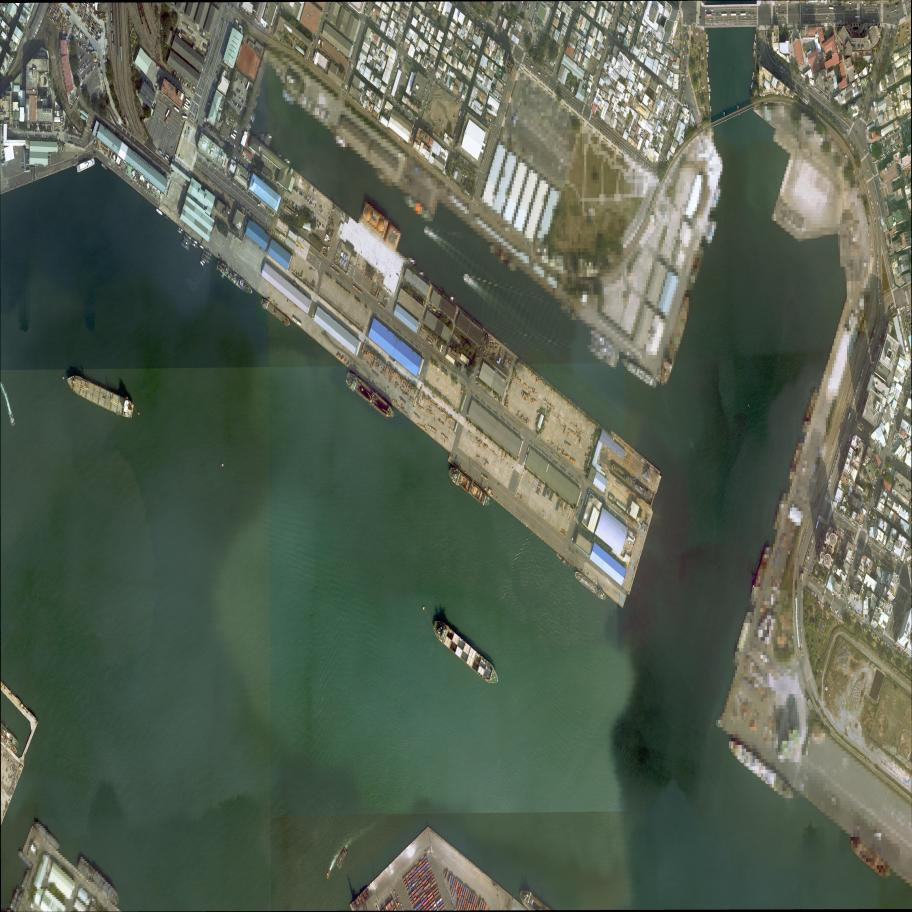large-vehicle: (186, 27, 195, 35), (378, 302, 386, 310), (173, 106, 180, 113), (182, 22, 190, 28), (165, 109, 170, 118), (352, 285, 359, 291), (185, 98, 191, 104), (183, 105, 189, 111), (681, 90, 684, 102), (230, 134, 236, 140), (382, 297, 386, 306), (847, 413, 851, 421), (246, 82, 250, 90), (184, 103, 190, 108), (404, 74, 409, 80), (330, 267, 336, 272), (357, 289, 363, 294), (440, 344, 443, 353), (164, 156, 169, 161), (200, 31, 205, 36), (335, 270, 340, 275), (182, 115, 188, 119), (396, 91, 399, 98), (300, 271, 303, 278), (155, 65, 160, 69), (233, 129, 238, 133), (175, 73, 178, 79), (173, 71, 176, 77), (185, 101, 189, 105), (530, 65, 534, 69), (233, 133, 237, 137), (182, 80, 185, 85), (686, 26, 689, 31), (731, 13, 736, 16), (706, 14, 712, 16), (877, 201, 879, 206), (869, 510, 871, 515), (836, 610, 838, 615), (855, 16, 860, 18), (829, 7, 834, 9), (722, 14, 727, 16), (741, 13, 746, 15), (538, 72, 541, 75)
ship: (426, 616, 506, 690), (61, 370, 140, 421), (657, 291, 694, 385), (340, 369, 399, 423), (444, 464, 495, 510), (213, 259, 256, 298), (571, 568, 609, 603), (257, 296, 293, 328), (608, 462, 635, 486), (0, 731, 19, 755), (630, 479, 651, 499), (75, 157, 97, 173), (335, 847, 349, 868), (560, 557, 574, 570), (200, 254, 211, 265), (179, 241, 191, 251), (202, 248, 214, 258), (201, 251, 213, 261), (182, 235, 193, 245), (183, 231, 193, 241), (155, 208, 165, 217), (182, 239, 191, 248), (190, 237, 199, 246), (324, 870, 331, 881), (190, 241, 199, 249), (9, 414, 15, 426), (100, 162, 108, 171), (556, 553, 563, 561), (199, 260, 206, 268), (176, 229, 184, 235), (201, 258, 207, 265), (198, 244, 205, 250), (164, 215, 170, 221), (177, 227, 184, 232), (708, 84, 711, 92), (752, 72, 755, 80), (751, 81, 754, 89), (753, 50, 756, 57), (709, 93, 711, 102), (753, 41, 755, 49), (710, 105, 712, 112), (754, 43, 756, 49), (707, 47, 709, 52), (707, 34, 709, 39), (755, 34, 756, 41), (708, 77, 709, 83), (708, 40, 709, 46), (707, 53, 708, 57)
small-vehicle: (428, 305, 433, 310), (241, 206, 246, 211), (432, 308, 437, 312), (268, 211, 273, 215), (479, 13, 483, 18), (170, 146, 174, 151), (843, 132, 847, 137), (492, 149, 495, 155), (883, 641, 887, 645), (474, 380, 478, 384), (393, 72, 397, 76), (640, 132, 644, 136), (793, 76, 797, 80), (818, 91, 822, 95), (799, 79, 803, 83), (446, 90, 450, 94), (407, 117, 411, 121), (544, 74, 548, 78), (889, 646, 893, 650), (200, 129, 204, 133), (202, 122, 206, 126), (183, 110, 187, 114), (157, 74, 161, 78), (207, 102, 211, 106), (232, 182, 236, 186), (244, 104, 248, 108), (245, 158, 249, 162), (248, 160, 252, 164), (105, 125, 109, 129), (155, 80, 159, 84), (895, 407, 899, 411), (900, 390, 904, 394), (897, 402, 901, 406), (868, 438, 872, 442), (887, 305, 891, 309), (890, 305, 894, 309), (906, 138, 910, 142), (905, 139, 909, 143), (887, 150, 891, 154), (893, 146, 897, 150), (831, 592, 835, 596), (895, 644, 899, 648), (906, 654, 910, 658), (858, 585, 862, 589), (875, 495, 879, 499), (875, 577, 879, 581), (881, 137, 885, 141), (808, 83, 812, 87), (833, 89, 837, 93), (845, 128, 849, 132), (544, 59, 548, 63), (620, 48, 624, 52), (479, 195, 483, 199), (892, 130, 896, 134), (173, 84, 177, 88), (409, 139, 413, 143), (470, 6, 474, 10), (363, 33, 366, 38), (614, 513, 617, 518), (275, 10, 278, 15), (238, 104, 241, 109), (295, 204, 298, 209), (637, 151, 640, 156), (638, 11, 641, 16), (639, 10, 642, 15), (504, 108, 507, 113), (6, 20, 9, 25), (82, 52, 85, 57), (245, 220, 248, 225), (849, 418, 852, 423), (837, 450, 840, 455), (836, 453, 839, 458), (894, 466, 897, 471), (806, 587, 809, 592), (853, 605, 856, 610), (819, 538, 822, 543), (811, 565, 814, 570), (863, 147, 866, 152), (196, 83, 199, 88), (311, 43, 314, 48), (428, 308, 432, 311), (471, 372, 474, 376), (472, 370, 475, 374), (377, 26, 380, 30), (362, 11, 366, 14), (363, 9, 366, 13), (363, 7, 367, 10), (395, 68, 398, 72), (394, 69, 397, 73), (370, 12, 373, 16), (370, 10, 373, 14), (449, 455, 452, 459), (365, 4, 369, 7), (279, 11, 282, 15), (315, 46, 318, 50), (230, 70, 234, 73), (244, 101, 248, 104), (245, 96, 249, 99), (215, 79, 219, 82), (309, 186, 312, 190), (314, 190, 317, 194), (267, 175, 270, 179), (279, 185, 282, 189), (392, 76, 396, 79), (657, 80, 660, 84), (691, 110, 694, 114), (673, 120, 676, 124), (671, 94, 675, 97), (590, 102, 593, 106), (595, 69, 598, 73), (769, 53, 772, 57), (771, 58, 775, 61), (802, 84, 805, 88), (683, 104, 687, 107), (689, 20, 693, 23), (407, 109, 410, 113), (426, 128, 430, 131), (453, 97, 457, 100), (413, 125, 417, 128), (458, 118, 461, 122), (419, 108, 422, 112), (481, 22, 485, 25), (451, 12, 454, 16), (432, 79, 436, 82), (611, 18, 614, 22), (471, 113, 475, 116), (528, 4, 531, 8), (526, 56, 529, 60), (525, 58, 529, 61), (533, 38, 536, 42), (592, 19, 596, 22), (510, 39, 513, 43), (466, 2, 469, 6), (8, 14, 11, 18), (3, 17, 6, 21), (7, 21, 10, 25), (84, 36, 87, 40), (84, 60, 87, 64), (81, 69, 84, 73), (81, 55, 84, 59), (187, 126, 190, 130), (155, 82, 158, 86), (185, 94, 188, 98), (160, 80, 163, 84), (186, 81, 188, 87), (237, 234, 240, 238), (152, 100, 155, 104), (242, 82, 245, 86), (229, 196, 233, 199), (245, 166, 249, 169), (88, 70, 91, 74), (90, 68, 93, 72), (84, 74, 87, 78), (83, 75, 86, 79), (70, 104, 73, 108), (154, 85, 157, 89), (157, 76, 160, 80), (74, 96, 77, 100), (903, 380, 907, 383), (904, 396, 908, 399), (893, 413, 897, 416), (892, 419, 896, 422), (860, 400, 863, 404), (853, 396, 856, 400), (909, 373, 912, 377), (899, 394, 902, 398), (905, 392, 909, 395), (872, 442, 876, 445), (859, 428, 863, 431), (848, 438, 851, 442), (835, 457, 838, 461), (870, 448, 874, 451), (860, 373, 863, 377), (891, 302, 894, 306), (885, 308, 888, 312), (906, 305, 909, 309), (885, 151, 888, 155), (894, 145, 897, 149), (899, 143, 902, 147), (884, 152, 887, 156), (892, 147, 895, 151), (890, 149, 893, 153), (886, 151, 889, 155), (909, 320, 912, 324), (878, 344, 882, 347), (871, 361, 875, 364), (869, 352, 872, 356), (907, 315, 911, 318), (878, 466, 882, 469), (834, 609, 837, 613), (849, 613, 853, 616), (856, 618, 859, 622), (859, 621, 862, 625), (840, 595, 844, 598), (848, 584, 852, 587), (824, 601, 827, 605), (866, 621, 870, 624), (904, 608, 908, 611), (906, 604, 910, 607), (895, 646, 898, 650), (847, 611, 851, 614), (848, 606, 852, 609), (872, 632, 876, 635), (874, 628, 878, 631), (876, 629, 880, 632), (869, 542, 873, 545), (884, 550, 888, 553), (887, 558, 891, 561), (894, 558, 898, 561), (868, 518, 871, 522), (848, 538, 852, 541), (862, 502, 866, 505), (874, 499, 878, 502), (872, 507, 876, 510), (872, 486, 875, 490), (851, 521, 854, 525), (821, 584, 824, 588), (843, 585, 847, 588), (854, 581, 857, 585), (849, 602, 852, 606), (856, 561, 860, 564), (811, 539, 814, 543), (857, 556, 860, 560), (803, 564, 806, 568), (857, 555, 861, 558), (877, 140, 880, 144), (855, 130, 858, 134), (881, 157, 884, 161), (897, 147, 901, 150), (879, 139, 882, 143), (908, 137, 911, 141), (897, 127, 900, 131), (885, 135, 888, 139), (903, 140, 906, 144), (789, 42, 792, 46), (790, 51, 793, 55), (773, 55, 776, 59), (782, 68, 786, 71), (806, 86, 809, 90), (815, 89, 819, 92), (822, 94, 826, 97), (824, 96, 828, 99), (902, 3, 906, 6), (843, 116, 846, 120), (870, 77, 873, 81), (904, 139, 907, 143), (671, 47, 675, 50), (789, 37, 792, 41), (594, 116, 597, 120), (483, 185, 486, 189), (567, 96, 570, 100), (634, 61, 638, 64), (890, 272, 893, 276), (884, 136, 887, 140), (886, 135, 889, 139), (902, 124, 905, 128), (890, 132, 893, 136), (482, 187, 485, 191), (327, 8, 330, 12), (165, 77, 168, 81), (325, 14, 328, 18), (326, 11, 329, 15), (227, 33, 230, 37), (201, 67, 204, 71), (328, 4, 331, 8), (328, 6, 331, 10), (440, 49, 443, 53), (410, 137, 413, 141), (527, 31, 531, 34), (527, 34, 531, 37), (532, 42, 535, 46), (405, 107, 408, 111), (393, 99, 397, 102), (365, 2, 369, 5), (393, 62, 396, 66), (390, 80, 393, 84), (323, 224, 325, 229), (295, 213, 297, 218), (293, 202, 295, 207), (410, 6, 412, 11), (503, 400, 505, 405), (506, 382, 508, 387), (237, 103, 239, 108), (217, 64, 219, 69), (308, 199, 310, 204), (308, 195, 310, 200), (311, 198, 313, 203), (312, 198, 314, 203), (297, 189, 299, 194), (328, 216, 330, 221), (387, 83, 389, 88), (668, 138, 670, 143), (673, 111, 675, 116), (671, 116, 673, 121), (641, 7, 643, 12), (685, 21, 687, 26), (454, 132, 456, 137), (412, 133, 414, 138), (424, 104, 426, 109), (442, 43, 444, 48), (562, 42, 564, 47), (616, 1, 618, 6), (483, 156, 485, 161), (446, 32, 448, 37), (241, 98, 243, 103), (6, 37, 8, 42), (89, 60, 91, 65), (78, 71, 80, 76), (80, 65, 82, 70), (79, 66, 81, 71), (85, 64, 87, 69), (234, 236, 236, 241), (178, 153, 180, 158), (184, 130, 186, 135), (196, 119, 198, 124), (228, 231, 230, 236), (153, 103, 155, 108), (158, 88, 160, 93), (239, 97, 241, 102), (234, 143, 236, 148), (834, 461, 836, 466), (832, 469, 834, 474), (847, 442, 849, 447), (831, 473, 833, 478), (893, 283, 895, 288), (879, 288, 881, 293), (867, 169, 869, 174), (827, 603, 829, 608), (827, 615, 829, 620), (839, 613, 841, 618), (826, 601, 828, 606), (808, 587, 810, 592), (809, 588, 811, 593), (830, 606, 832, 611), (816, 593, 818, 598), (810, 589, 812, 594), (856, 597, 858, 602), (854, 596, 856, 601), (861, 601, 863, 606), (879, 583, 881, 588), (847, 600, 849, 605), (817, 543, 819, 548), (812, 45, 814, 50), (872, 58, 874, 63), (839, 54, 841, 59), (868, 189, 870, 194), (880, 225, 882, 230), (873, 212, 875, 217), (274, 14, 276, 19), (200, 71, 202, 76), (318, 38, 320, 43), (314, 35, 316, 40), (403, 40, 405, 45), (405, 31, 407, 36), (387, 86, 389, 91), (331, 264, 334, 267), (271, 214, 274, 217), (505, 378, 508, 381), (393, 74, 396, 77), (375, 24, 378, 27), (505, 390, 508, 393), (588, 489, 591, 492), (587, 491, 590, 494), (579, 531, 582, 534), (373, 3, 376, 6), (308, 56, 311, 59), (262, 172, 265, 175), (257, 22, 260, 25), (320, 196, 323, 199), (287, 190, 290, 193), (289, 192, 292, 195), (281, 187, 284, 190), (389, 86, 392, 89), (675, 96, 678, 99), (684, 102, 687, 105), (688, 105, 691, 108), (671, 127, 674, 130), (624, 139, 627, 142), (777, 64, 780, 67), (809, 88, 812, 91), (451, 95, 454, 98), (421, 99, 424, 102), (414, 123, 417, 126), (413, 127, 416, 130), (476, 22, 479, 25), (484, 181, 487, 184), (555, 80, 558, 83), (475, 10, 478, 13), (488, 126, 491, 129), (482, 121, 485, 124), (484, 123, 487, 126), (481, 116, 484, 119), (470, 13, 473, 16), (6, 13, 9, 16), (73, 72, 76, 75), (201, 127, 204, 130), (140, 76, 143, 79), (140, 74, 143, 77), (213, 226, 216, 229), (232, 199, 235, 202), (243, 156, 246, 159), (237, 159, 240, 162), (21, 161, 24, 164), (21, 166, 24, 169), (85, 73, 88, 76), (188, 97, 191, 100), (80, 87, 83, 90), (70, 103, 73, 106), (73, 98, 76, 101), (75, 95, 78, 98), (711, 9, 714, 12), (895, 409, 898, 412), (897, 404, 900, 407), (894, 411, 897, 414), (849, 409, 852, 412), (905, 377, 908, 380), (861, 423, 864, 426), (895, 446, 898, 449), (866, 434, 869, 437), (898, 442, 901, 445), (907, 309, 910, 312), (895, 205, 898, 208), (901, 142, 904, 145), (882, 153, 885, 156), (906, 307, 909, 310), (907, 312, 910, 315), (907, 310, 910, 313), (908, 317, 911, 320), (858, 614, 861, 617), (852, 615, 855, 618), (856, 613, 859, 616), (825, 588, 828, 591), (846, 594, 849, 597), (860, 616, 863, 619), (852, 609, 855, 612), (875, 584, 878, 587), (903, 652, 906, 655), (887, 644, 890, 647), (868, 629, 871, 632), (877, 636, 880, 639), (854, 611, 857, 614), (862, 624, 865, 627), (873, 485, 876, 488), (871, 538, 874, 541), (870, 514, 873, 517), (891, 555, 894, 558), (853, 551, 856, 554), (851, 541, 854, 544), (842, 533, 845, 536), (858, 498, 861, 501), (875, 479, 878, 482), (860, 500, 863, 503), (835, 514, 838, 517), (842, 514, 845, 517), (844, 516, 847, 519), (853, 523, 856, 526), (813, 578, 816, 581), (815, 579, 818, 582), (841, 593, 844, 596), (878, 586, 881, 589), (851, 559, 854, 562), (817, 581, 820, 584), (819, 583, 822, 586), (890, 59, 893, 62), (891, 61, 894, 64), (899, 81, 902, 84), (880, 161, 883, 164), (883, 156, 886, 159), (901, 26, 904, 29), (908, 37, 911, 40), (898, 29, 901, 32), (898, 27, 901, 30), (897, 31, 900, 34), (900, 146, 903, 149), (883, 137, 886, 140), (889, 133, 892, 136), (895, 129, 898, 132), (901, 126, 904, 129), (907, 35, 910, 38), (788, 9, 791, 12), (780, 66, 783, 69), (786, 71, 789, 74), (780, 71, 783, 74), (803, 78, 806, 81), (813, 87, 816, 90), (807, 99, 810, 102), (804, 97, 807, 100), (835, 94, 838, 97), (865, 129, 868, 132), (863, 3, 866, 6), (891, 10, 894, 13), (894, 9, 897, 12), (849, 28, 852, 31), (902, 141, 905, 144), (789, 40, 792, 43), (904, 14, 907, 17), (546, 57, 549, 60), (67, 17, 70, 20), (591, 115, 594, 118), (640, 129, 643, 132), (888, 134, 891, 137), (898, 127, 901, 130), (903, 124, 906, 127), (449, 93, 452, 96), (176, 86, 179, 89), (182, 91, 185, 94), (183, 92, 186, 95), (164, 76, 167, 79), (221, 18, 224, 21), (531, 46, 534, 49), (406, 108, 409, 111), (409, 60, 412, 63), (478, 20, 481, 23), (482, 27, 485, 30), (395, 100, 398, 103), (371, 8, 374, 11), (391, 97, 394, 100), (358, 52, 361, 55), (319, 222, 321, 226), (294, 254, 296, 258), (294, 270, 296, 274), (419, 321, 421, 325), (425, 303, 427, 307), (457, 310, 459, 314), (318, 221, 320, 225), (233, 100, 235, 104), (316, 224, 318, 228), (320, 209, 322, 213), (321, 210, 323, 214), (328, 212, 330, 216), (290, 200, 292, 204), (296, 206, 298, 210), (282, 215, 284, 219), (317, 221, 319, 225), (320, 223, 322, 227), (494, 370, 498, 372), (366, 8, 368, 12), (350, 56, 352, 60), (349, 61, 351, 65), (576, 513, 578, 517), (641, 527, 643, 531), (642, 528, 644, 532), (319, 209, 321, 213), (319, 204, 321, 208), (314, 200, 316, 204), (304, 195, 306, 199), (310, 56, 312, 60), (312, 57, 314, 61), (264, 174, 268, 176), (293, 186, 295, 190), (294, 187, 296, 191), (312, 188, 314, 192), (299, 191, 301, 195), (300, 192, 302, 196), (281, 5, 283, 9), (208, 43, 210, 47), (235, 103, 237, 107), (239, 106, 241, 110), (232, 20, 234, 24), (210, 95, 212, 99), (223, 47, 225, 51), (223, 41, 225, 45), (301, 193, 303, 197), (305, 196, 307, 200), (307, 199, 309, 203), (302, 194, 304, 198), (303, 194, 305, 198), (306, 198, 308, 202), (311, 202, 313, 206), (312, 203, 314, 207), (313, 204, 315, 208), (310, 197, 312, 201), (298, 190, 300, 194), (296, 189, 298, 193), (309, 200, 311, 204), (310, 201, 312, 205), (314, 204, 316, 208), (320, 205, 322, 209), (295, 188, 297, 192), (683, 83, 685, 87), (678, 108, 680, 112), (676, 113, 678, 117), (613, 13, 615, 17), (597, 65, 599, 69), (595, 87, 597, 91), (640, 9, 642, 13), (642, 7, 644, 11), (630, 49, 632, 53), (691, 88, 693, 92), (766, 39, 768, 43), (767, 46, 769, 50), (692, 94, 694, 98), (685, 36, 687, 40), (684, 29, 686, 33), (637, 55, 639, 59), (628, 47, 630, 51), (458, 129, 460, 133), (463, 112, 465, 116), (461, 111, 463, 115), (460, 114, 462, 118), (457, 122, 459, 126), (455, 128, 457, 132), (456, 136, 458, 140), (409, 110, 411, 114), (429, 89, 431, 93), (430, 85, 432, 89), (457, 132, 459, 136), (486, 145, 488, 149), (491, 155, 493, 159), (500, 102, 502, 106), (501, 104, 503, 108), (234, 101, 236, 105), (88, 39, 90, 43), (87, 38, 89, 42), (242, 100, 244, 104), (82, 63, 84, 67), (83, 62, 85, 66), (86, 60, 88, 64), (87, 57, 89, 61), (90, 60, 92, 64), (88, 62, 90, 66), (79, 71, 81, 75), (78, 67, 80, 71), (80, 52, 82, 56), (77, 55, 79, 59), (78, 54, 80, 58), (79, 53, 81, 57), (77, 68, 79, 72), (82, 54, 84, 58), (80, 56, 82, 60), (78, 58, 80, 62), (83, 67, 85, 71), (84, 65, 86, 69), (196, 132, 198, 136), (221, 138, 223, 142), (222, 139, 224, 143), (188, 132, 190, 136), (154, 102, 156, 106), (146, 79, 148, 83), (159, 85, 161, 89), (178, 78, 180, 82), (184, 82, 186, 86), (240, 237, 242, 241), (240, 98, 242, 102), (241, 93, 243, 97), (239, 91, 241, 95), (244, 83, 246, 87), (236, 77, 238, 81), (236, 88, 238, 92), (237, 89, 239, 93), (238, 90, 240, 94), (232, 91, 234, 95), (233, 92, 235, 96), (234, 93, 236, 97), (232, 99, 234, 103), (236, 103, 238, 107), (240, 107, 242, 111), (241, 235, 243, 239), (241, 233, 243, 237), (238, 147, 240, 151), (154, 100, 156, 104), (151, 103, 153, 107), (86, 64, 88, 68), (107, 81, 109, 85), (105, 85, 107, 89), (106, 90, 108, 94), (62, 147, 64, 151), (99, 60, 101, 64), (87, 63, 89, 67), (93, 65, 95, 69), (92, 66, 94, 70), (91, 67, 93, 71), (89, 69, 91, 73), (81, 78, 83, 82), (82, 77, 84, 81), (152, 106, 154, 110), (187, 84, 189, 88), (71, 91, 73, 95), (859, 405, 861, 409), (882, 447, 884, 451), (908, 377, 910, 381), (891, 441, 893, 445), (878, 444, 880, 448), (879, 445, 881, 449), (880, 446, 882, 450), (881, 447, 883, 451), (767, 40, 769, 44), (856, 389, 858, 393), (855, 393, 857, 397), (852, 401, 854, 405), (855, 417, 857, 421), (857, 412, 859, 416), (861, 396, 863, 400), (851, 405, 853, 409), (833, 465, 835, 469), (837, 478, 839, 482), (829, 478, 831, 482), (828, 482, 830, 486), (827, 486, 829, 490), (894, 466, 896, 470), (896, 468, 898, 472), (840, 443, 842, 447), (841, 440, 843, 444), (842, 435, 844, 439), (844, 451, 846, 455), (907, 467, 909, 471), (843, 431, 845, 435), (893, 465, 895, 469), (900, 470, 902, 474), (857, 385, 859, 389), (858, 381, 860, 385), (877, 276, 879, 280), (877, 281, 879, 285), (903, 184, 905, 188), (904, 176, 906, 180), (907, 131, 909, 135), (862, 369, 864, 373), (864, 361, 866, 365), (863, 365, 865, 369), (876, 347, 878, 351), (874, 349, 876, 353), (874, 326, 876, 330), (873, 329, 875, 333), (871, 337, 873, 341), (870, 341, 872, 345), (874, 354, 876, 358), (868, 349, 870, 353), (870, 367, 872, 371), (903, 312, 905, 316), (906, 313, 908, 317), (908, 328, 910, 332), (869, 345, 871, 349), (909, 327, 911, 331), (876, 321, 878, 325), (884, 310, 886, 314), (899, 311, 901, 315), (872, 333, 874, 337), (882, 470, 884, 474), (828, 604, 830, 608), (838, 613, 840, 617), (840, 615, 842, 619), (813, 592, 815, 596), (822, 592, 824, 596), (823, 593, 825, 597), (811, 590, 813, 594), (815, 593, 817, 597), (858, 610, 860, 614), (864, 614, 866, 618), (896, 627, 898, 631), (901, 613, 903, 617), (897, 623, 899, 627), (895, 632, 897, 636), (894, 636, 896, 640), (833, 595, 837, 597), (885, 627, 887, 631), (877, 592, 879, 596), (859, 610, 861, 614), (857, 609, 859, 613), (813, 534, 815, 538), (810, 543, 812, 547), (809, 547, 811, 551), (808, 551, 810, 555), (866, 510, 868, 514), (814, 557, 816, 561), (892, 604, 894, 608), (853, 587, 855, 591), (854, 588, 856, 592), (822, 525, 824, 529), (823, 526, 825, 530), (807, 555, 809, 559), (806, 558, 808, 562), (805, 561, 807, 565), (906, 128, 908, 132), (889, 42, 891, 46), (872, 173, 874, 177), (879, 177, 881, 181), (887, 42, 889, 46), (905, 43, 907, 47), (909, 38, 911, 42), (866, 20, 870, 22), (885, 144, 887, 148), (884, 145, 886, 149), (901, 131, 903, 135), (905, 123, 907, 127), (906, 122, 908, 126), (794, 57, 796, 61), (810, 47, 812, 51), (804, 68, 806, 72), (806, 66, 808, 70), (811, 46, 813, 50), (812, 5, 816, 7), (862, 109, 864, 113), (836, 43, 838, 47), (835, 39, 837, 43), (834, 35, 836, 39), (848, 24, 850, 28), (905, 128, 907, 132), (868, 147, 870, 151), (882, 64, 884, 68), (860, 113, 862, 117), (885, 206, 887, 210), (644, 133, 646, 137), (653, 78, 655, 82), (654, 79, 656, 83), (869, 193, 871, 197), (894, 136, 896, 140), (870, 197, 872, 201), (871, 201, 873, 205), (872, 205, 874, 209), (898, 144, 900, 148), (169, 80, 171, 84), (171, 81, 173, 85), (273, 18, 275, 22), (171, 71, 173, 75), (225, 35, 227, 39), (202, 43, 204, 47), (226, 21, 228, 25), (227, 72, 229, 76), (198, 80, 200, 84), (213, 79, 215, 83), (212, 83, 214, 87), (199, 76, 201, 80), (327, 10, 329, 14), (400, 39, 402, 43), (411, 132, 413, 136), (532, 43, 534, 47), (324, 20, 326, 24), (398, 56, 400, 60), (477, 370, 480, 372), (477, 372, 480, 374), (289, 200, 291, 203), (353, 47, 355, 50), (608, 509, 610, 512), (269, 178, 272, 180), (277, 183, 279, 186), (205, 54, 207, 57), (313, 200, 315, 203), (307, 195, 309, 198), (292, 203, 294, 206), (291, 202, 293, 205), (275, 182, 278, 184), (595, 73, 597, 76), (593, 78, 595, 81), (588, 96, 590, 99), (609, 26, 611, 29), (774, 61, 777, 63), (707, 9, 710, 11), (689, 14, 692, 16), (464, 12, 467, 14), (480, 53, 482, 56), (484, 41, 486, 44), (467, 109, 470, 111), (499, 43, 502, 45), (489, 122, 492, 124), (423, 72, 426, 74), (81, 65, 83, 68), (87, 59, 89, 62), (80, 70, 82, 73), (82, 68, 84, 71), (79, 58, 81, 61), (155, 98, 157, 101), (204, 59, 206, 62), (1, 143, 4, 145), (1, 147, 4, 149), (2, 156, 5, 158), (48, 154, 51, 156), (100, 66, 102, 69), (80, 79, 82, 82), (88, 71, 90, 74), (47, 92, 50, 94), (57, 131, 60, 133), (70, 138, 73, 140), (748, 13, 751, 15), (744, 16, 747, 18), (842, 458, 844, 461), (859, 377, 861, 380), (871, 364, 873, 367), (866, 354, 868, 357), (908, 324, 910, 327), (878, 469, 881, 471), (846, 518, 849, 520), (811, 569, 813, 572), (885, 155, 888, 157), (905, 143, 908, 145), (869, 20, 872, 22), (891, 37, 893, 40), (889, 139, 891, 142), (888, 140, 890, 143), (894, 130, 896, 133), (896, 129, 898, 132), (907, 122, 909, 125), (909, 121, 911, 124), (838, 4, 841, 6), (777, 7, 780, 9), (781, 12, 784, 14), (813, 17, 816, 19), (778, 9, 780, 12), (776, 12, 779, 14), (836, 88, 838, 91), (853, 10, 856, 12), (862, 104, 864, 107), (872, 3, 875, 5), (887, 16, 890, 18), (858, 20, 861, 22), (832, 4, 835, 6), (840, 4, 843, 6), (854, 7, 857, 9), (839, 20, 842, 22), (854, 31, 857, 33), (833, 32, 835, 35), (655, 80, 657, 83), (890, 142, 892, 145), (883, 143, 885, 146), (885, 90, 888, 92), (900, 126, 902, 129), (179, 88, 181, 91), (180, 89, 182, 92), (181, 90, 183, 93), (326, 14, 328, 17), (897, 145, 899, 148), (232, 6, 234, 9), (216, 71, 218, 74), (433, 66, 435, 69), (372, 7, 374, 10), (298, 206, 299, 211), (681, 81, 682, 86), (685, 52, 686, 57), (688, 44, 689, 49), (78, 41, 79, 46), (79, 42, 80, 47), (81, 44, 82, 49), (59, 145, 60, 150), (16, 124, 17, 129), (49, 80, 50, 85), (896, 437, 897, 442), (877, 259, 878, 264), (882, 143, 883, 148), (888, 258, 889, 263), (900, 135, 901, 140), (322, 224, 323, 228), (318, 225, 319, 229), (295, 204, 296, 208), (476, 375, 478, 377), (396, 55, 397, 59), (598, 496, 599, 500), (207, 49, 208, 53), (684, 71, 685, 75), (685, 66, 686, 70), (685, 82, 686, 86), (765, 25, 766, 29), (765, 32, 766, 36), (767, 35, 768, 39), (709, 19, 711, 21), (752, 13, 754, 15), (684, 40, 685, 44), (687, 104, 688, 108), (699, 16, 701, 18), (696, 12, 698, 14), (536, 39, 538, 41), (534, 46, 536, 48), (572, 97, 574, 99), (86, 37, 87, 41), (74, 38, 75, 42), (75, 39, 76, 43), (77, 41, 78, 45), (80, 43, 81, 47), (82, 45, 83, 49), (84, 47, 85, 51), (85, 48, 86, 52), (86, 48, 87, 52), (219, 137, 220, 141), (220, 137, 221, 141), (224, 140, 225, 144), (241, 80, 242, 84), (17, 124, 18, 128), (1, 145, 3, 147), (2, 148, 4, 150), (2, 152, 4, 154), (48, 156, 50, 158), (14, 124, 15, 128), (13, 124, 14, 128), (42, 73, 44, 75), (39, 78, 40, 82), (47, 73, 48, 77), (49, 99, 51, 101), (147, 80, 148, 84), (68, 92, 69, 96), (60, 126, 61, 130), (11, 124, 12, 128), (10, 124, 11, 128), (8, 124, 9, 128), (7, 124, 8, 128), (70, 91, 71, 95), (878, 443, 879, 447), (839, 447, 840, 451), (909, 469, 910, 473), (907, 471, 908, 475), (877, 264, 878, 268), (877, 268, 878, 272), (878, 273, 879, 277), (878, 285, 879, 289), (904, 133, 905, 137), (866, 357, 867, 361), (907, 319, 908, 323), (837, 611, 838, 615), (861, 611, 862, 615), (813, 591, 814, 595), (902, 650, 904, 652), (813, 562, 814, 566), (904, 559, 905, 563), (809, 576, 811, 578), (877, 580, 879, 582), (856, 589, 857, 593), (850, 570, 851, 574), (909, 130, 910, 134), (908, 127, 909, 131), (903, 148, 905, 150), (897, 13, 899, 15), (887, 6, 889, 8), (896, 42, 898, 44), (901, 45, 903, 47), (907, 32, 909, 34), (889, 142, 890, 146), (888, 143, 889, 147), (895, 138, 896, 142), (898, 133, 899, 137), (898, 137, 899, 141), (899, 136, 900, 140), (903, 134, 904, 138), (906, 132, 907, 136), (887, 140, 888, 144), (886, 141, 887, 145), (885, 142, 886, 146), (883, 146, 884, 150), (907, 29, 909, 31), (808, 48, 809, 52), (850, 8, 852, 10), (873, 20, 875, 22), (826, 17, 828, 19), (836, 4, 838, 6), (846, 22, 848, 24), (833, 28, 834, 32), (870, 3, 872, 5), (898, 35, 900, 37), (896, 38, 898, 40), (896, 40, 898, 42), (875, 219, 876, 223), (877, 254, 878, 258), (644, 129, 645, 133), (891, 138, 892, 142), (892, 137, 893, 141), (897, 134, 898, 138), (896, 135, 897, 139), (894, 139, 895, 143), (893, 140, 894, 144), (892, 141, 893, 145), (900, 132, 901, 136), (901, 135, 902, 139), (903, 130, 904, 134), (904, 129, 905, 133), (874, 216, 875, 220), (685, 60, 686, 63), (685, 75, 686, 78), (683, 55, 684, 58), (683, 47, 684, 50), (435, 72, 436, 75), (87, 72, 88, 75), (83, 76, 84, 79), (50, 85, 51, 88), (9, 124, 10, 127), (69, 92, 70, 95), (906, 316, 907, 319), (813, 602, 814, 605), (801, 628, 802, 631), (868, 612, 869, 615), (904, 43, 905, 46), (903, 43, 904, 46), (893, 137, 894, 140), (905, 133, 906, 136), (807, 49, 808, 52), (809, 48, 810, 51), (843, 8, 846, 9), (887, 144, 888, 147), (873, 209, 874, 212), (535, 43, 537, 44), (47, 94, 49, 95), (896, 44, 898, 45), (875, 4, 877, 5)
storage-tank: (61, 121, 63, 123), (61, 119, 63, 121), (61, 116, 63, 118)
